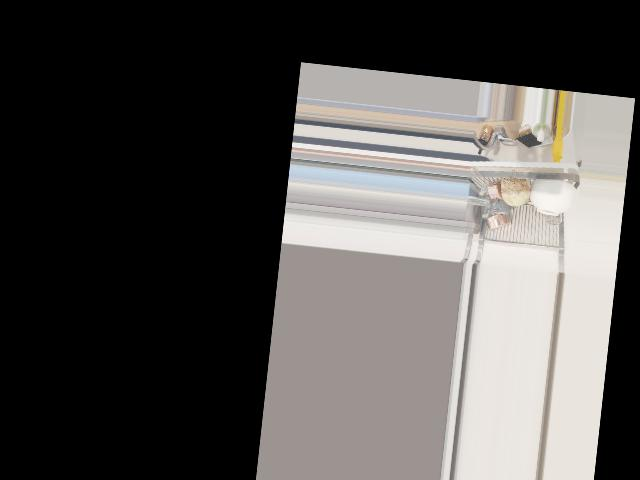onion: (500, 173, 531, 210)
